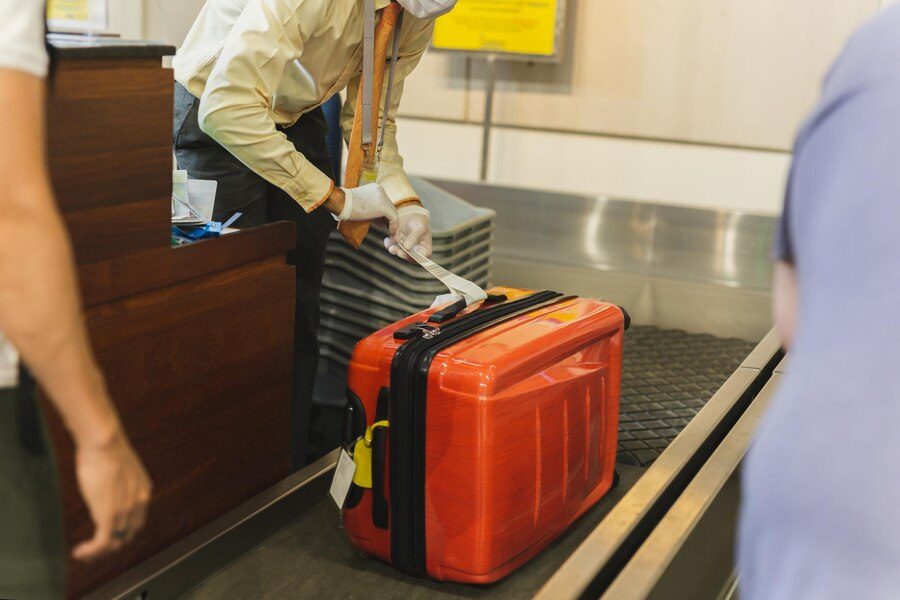baggage: (334, 278, 634, 581)
